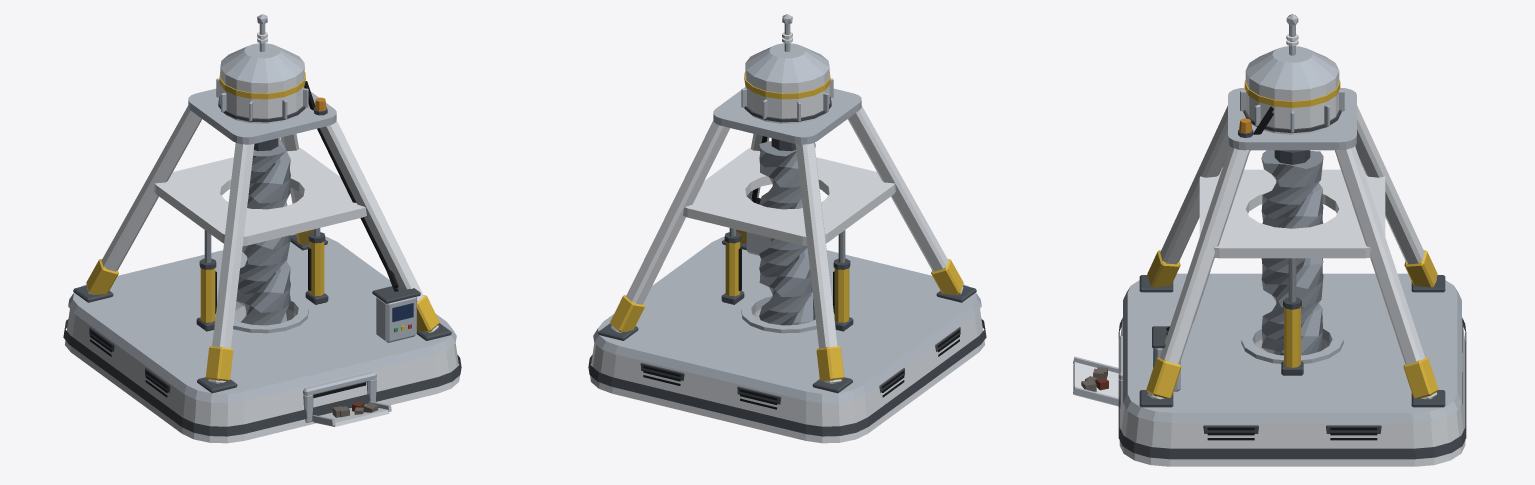
Rendered from foreuse_eco_t3.glb.
The picture shows the model from 3 angles, left to right: view 1: azimuth 30°, elevation 25°; view 2: azimuth 150°, elevation 25°; view 3: azimuth 270°, elevation 25°; orthographic projection. The views are drawn at different scales.
Visible parts, largest first — view 1: socle_dessus.004, pieces_blanc.002, socle.004, collier.004, foret_corps.006, socle_bande.002, pieces_jaune.004, plateau.004, capsule.002, capsule_dome.002, pieces_gris_clair.002, pieces_acier_sombre.008 (+5 smaller); view 2: socle_dessus.004, pieces_blanc.002, socle.004, collier.004, foret_corps.006, socle_bande.002, pieces_jaune.004, plateau.004, pieces_acier_sombre.008, capsule.002, capsule_dome.002, pieces_noir.008 (+3 smaller); view 3: socle_dessus.004, pieces_blanc.002, socle.004, collier.004, foret_corps.006, socle_bande.002, pieces_jaune.004, plateau.004, capsule_dome.002, capsule.002, pieces_acier_sombre.008, pieces_gris_clair.002 (+4 smaller).
Part boxes in pixels (x1,y1,x2,y2): socle_dessus.004: [68, 234, 456, 403]; pieces_blanc.002: [86, 105, 438, 426]; socle.004: [65, 306, 459, 443]; collier.004: [154, 147, 366, 246]; foret_corps.006: [236, 138, 290, 325]; socle_bande.002: [63, 319, 461, 436]; pieces_jaune.004: [86, 229, 439, 381]; plateau.004: [188, 88, 336, 144]; capsule.002: [220, 65, 304, 123]; capsule_dome.002: [220, 43, 304, 83]; pieces_gris_clair.002: [216, 14, 391, 425]; pieces_acier_sombre.008: [73, 232, 451, 393]; socle_dessus.004: [593, 236, 981, 403]; pieces_blanc.002: [611, 105, 963, 383]; socle.004: [590, 309, 984, 443]; collier.004: [683, 147, 895, 246]; foret_corps.006: [759, 141, 815, 325]; socle_bande.002: [588, 319, 986, 436]; pieces_jaune.004: [610, 229, 963, 381]; plateau.004: [713, 87, 861, 144]; pieces_acier_sombre.008: [598, 232, 976, 404]; capsule.002: [745, 65, 829, 123]; capsule_dome.002: [745, 43, 829, 83]; pieces_noir.008: [643, 136, 959, 409]; socle_dessus.004: [1123, 273, 1461, 422]; pieces_blanc.002: [1073, 105, 1437, 406]; socle.004: [1119, 318, 1465, 466]; collier.004: [1199, 169, 1385, 258]; foret_corps.006: [1261, 150, 1323, 355]; socle_bande.002: [1118, 317, 1466, 459]; pieces_jaune.004: [1146, 250, 1438, 398]; plateau.004: [1228, 87, 1356, 150]; capsule_dome.002: [1245, 46, 1339, 90]; capsule.002: [1245, 71, 1339, 134]; pieces_acier_sombre.008: [1139, 275, 1445, 433]; pieces_gris_clair.002: [1073, 14, 1344, 408].
Bounding box in the file's own units: 2 × 2.29 × 2.5.
